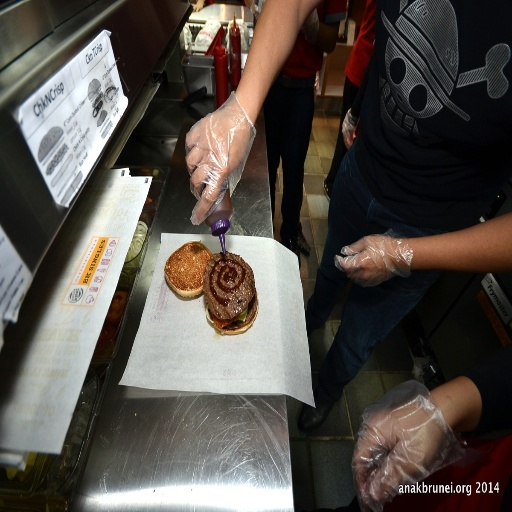hand: (355, 396, 442, 504), (185, 99, 249, 224), (336, 223, 445, 289), (340, 114, 359, 147), (313, 71, 320, 92), (192, 0, 204, 11), (243, 0, 253, 7), (253, 6, 258, 20)
